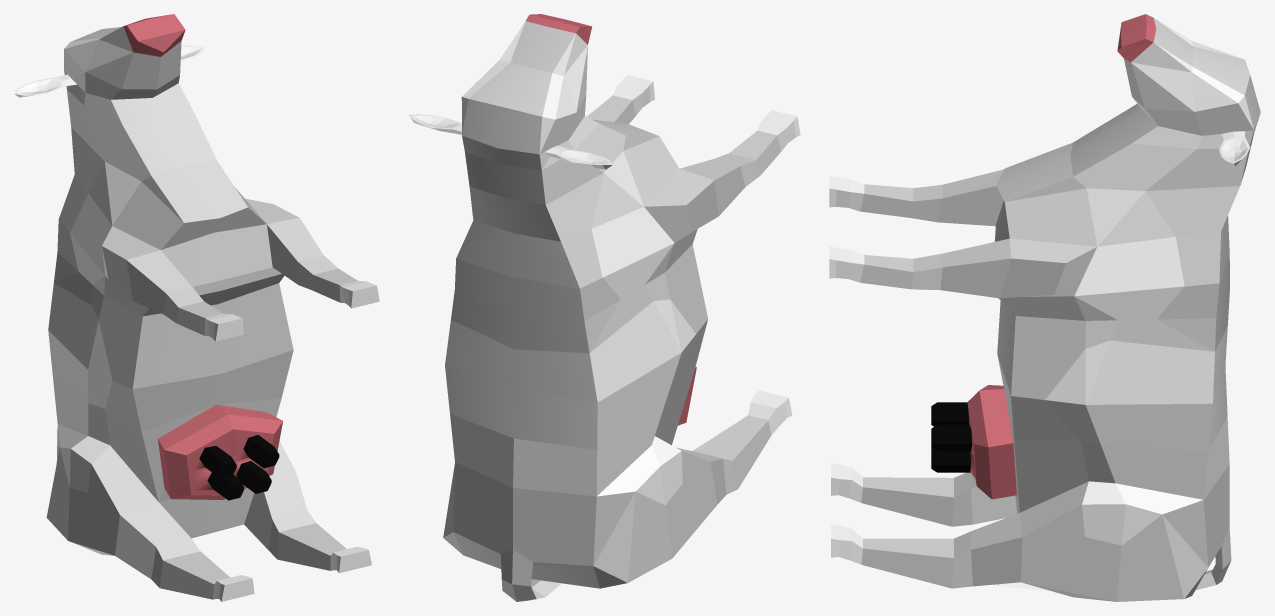
The model's file is CowGun.fbx.
3 views of the same model, side by side, from view 1: azimuth 30°, elevation 25°; view 2: azimuth 150°, elevation 25°; view 3: azimuth 270°, elevation 25° (orthographic). The views are drawn at different scales.
Parts seen in each view (by area): view 1: Cow; view 2: Cow; view 3: Cow.
Boxes of the visible parts, bbox=[...] form: Cow: bbox=[14, 14, 379, 601]; Cow: bbox=[408, 14, 800, 601]; Cow: bbox=[829, 14, 1260, 601].
Bounding box in the file's own units: 0.2812 × 0.7344 × 0.5085.
